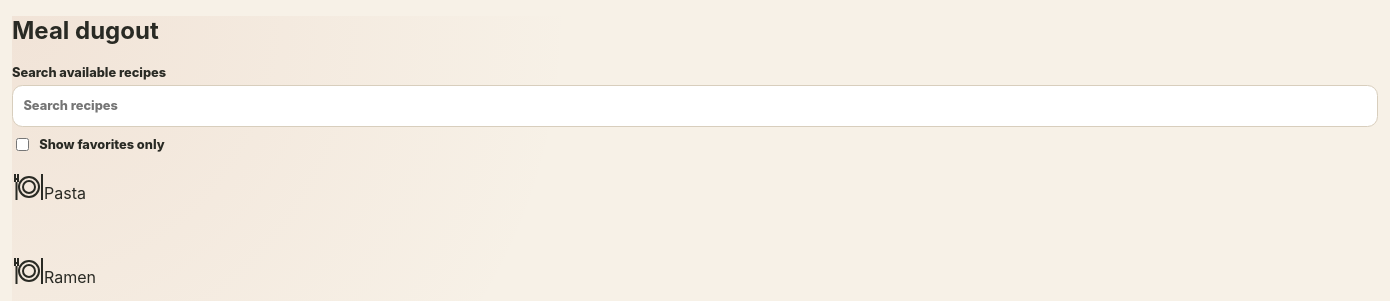
it: MealDugout › can show only favorite recipes
Click the checkbox labelled "Show favorites only": click(22, 145) [16, 138, 29, 151]
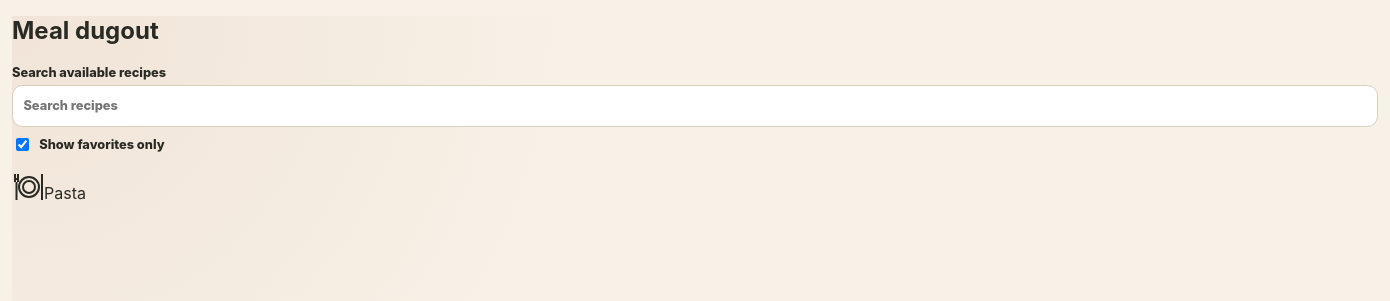
Expected: the text "Pasta" is shown, [44, 183, 86, 203]
Now the button "Ramen" is gone
